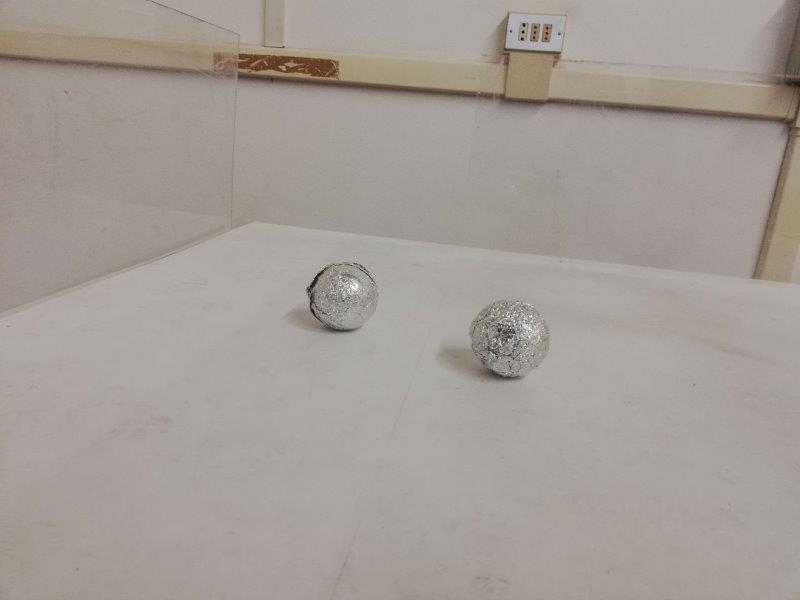bianca: (469, 298, 549, 378), (306, 258, 379, 332)
